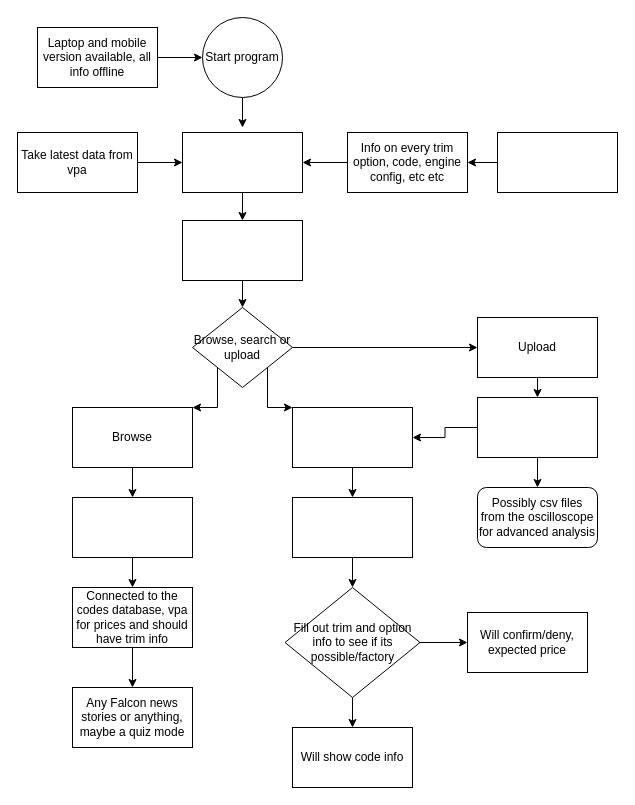
Image size: 635x805. Some labels were removed from this diagram. The centre of each missing label's shape, as x and y in pixels:
All in one search, codes, trims, expected price: the point at 352,527
Allows just looking through different models, trims, options: the point at 132,527
Fed by sales brochures, official service manuals: the point at 557,162
Homepage: the point at 242,162
Overview, general info, looks good: the point at 242,250
Search: the point at 352,437
Upload forscan data, link to ad: the point at 537,427
